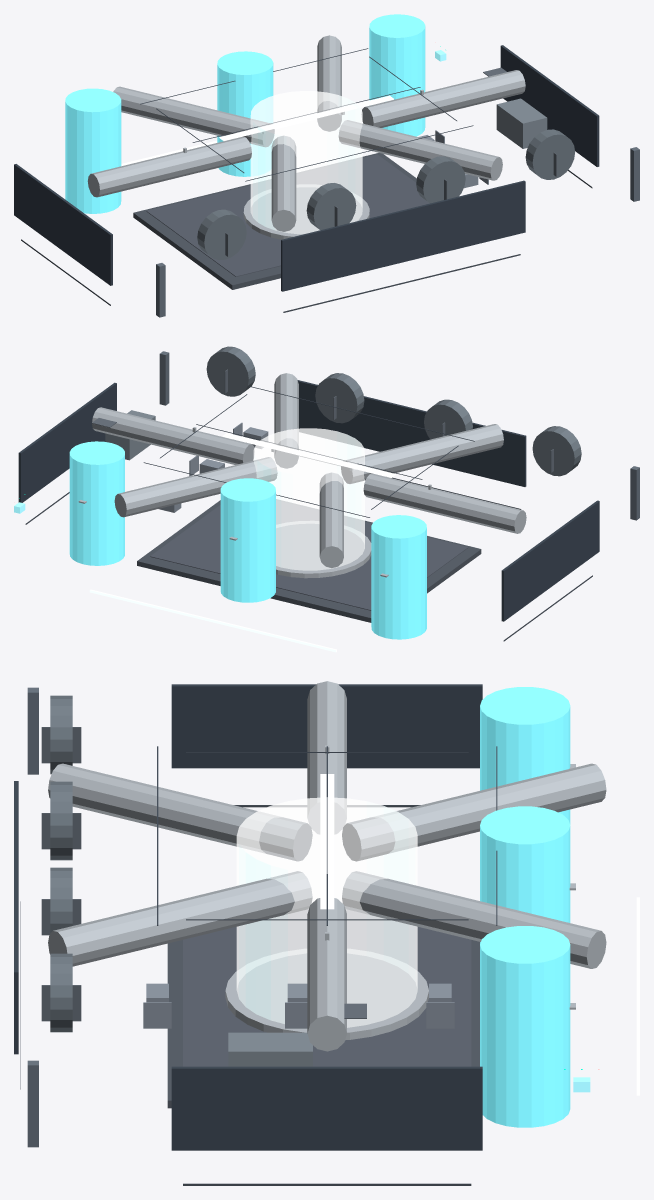
Rendered from floor-the-lung.glb.
3 renders of one model, top to bottom at view 1: azimuth 30°, elevation 25°; view 2: azimuth 150°, elevation 25°; view 3: azimuth 270°, elevation 25°, orthographic. The views are drawn at different scales.
Visible parts, largest first — view 1: WallBack_air, LungCore, IntFloor_air, Scrubber0, WallL_air, Scrubber2, Scrubber1, WallR_air, Duct_3, Duct_0, Duct_5, Duct_2 (+13 smaller); view 2: LungCore, WallBack_air, IntFloor_air, Scrubber0, Scrubber1, Scrubber2, WallL_air, WallR_air, Duct_3, Duct_0, Duct_4, Duct_1 (+13 smaller); view 3: LungCore, WallR_air, WallL_air, IntFloor_air, Scrubber2, Duct_5, LungBase, Duct_4, Duct_2, Scrubber1, Duct_1, Scrubber0 (+19 smaller).
Part boxes in pixels (x1,y1,x2,y2): WallBack_air: (281,180,525,291); LungCore: (250,91,362,234); IntFloor_air: (146,154,429,276); Scrubber0: (65,88,121,213); WallL_air: (14,164,112,285); Scrubber2: (369,14,425,136); Scrubber1: (217,51,273,176); WallR_air: (500,45,599,166); Duct_3: (87,136,251,197); Duct_0: (361,70,525,127); Duct_5: (338,120,502,180); Duct_2: (113,86,274,147); LungCore: (253,428,364,570); WallBack_air: (297,380,526,486); IntFloor_air: (150,501,468,610); Scrubber0: (371,515,426,639); Scrubber1: (220,478,275,602); Scrubber2: (69,441,124,565); WallL_air: (501,500,599,621); WallR_air: (18,382,116,502); Duct_3: (363,473,526,533); Duct_0: (92,407,254,464); Duct_4: (341,424,503,483); Duct_1: (114,457,277,517); LungCore: (236,797,417,1027); WallR_air: (171,1066,482,1150); WallL_air: (171,684,482,768); IntFloor_air: (183,909,471,1066); Scrubber2: (480,926,570,1127); Duct_5: (48,871,312,966); LungBase: (225,949,428,1040); Duct_4: (48,763,312,861); Duct_2: (342,763,606,861); Scrubber1: (480,806,570,943); Duct_1: (342,871,606,968); Scrubber0: (480,687,570,824).
Bounding box in the file's own units: 16.08 × 3.62 × 11.07.
